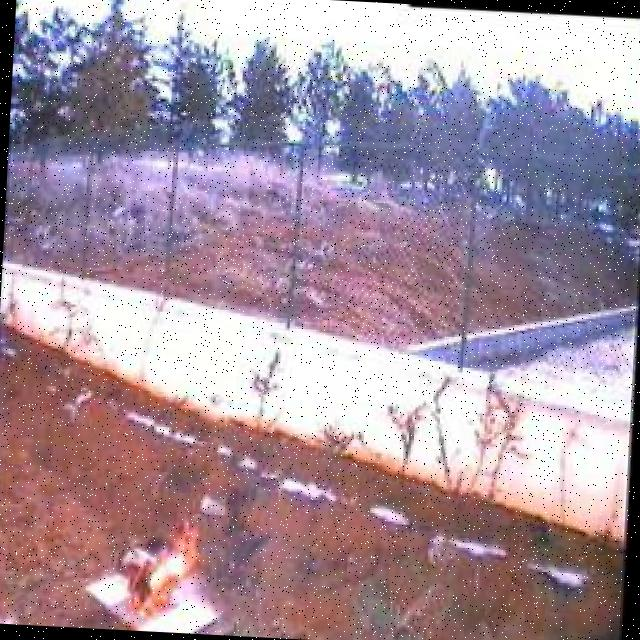fire: (105, 515, 222, 620)
